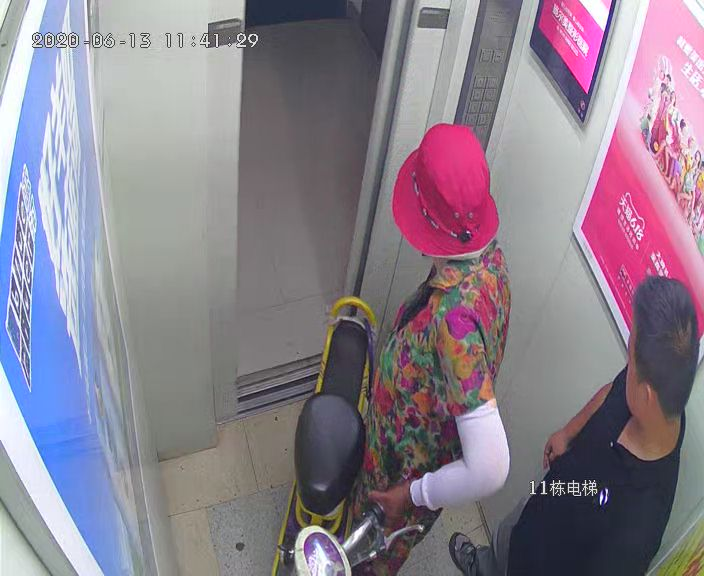Electric-bicycle: (270, 296, 422, 576)
